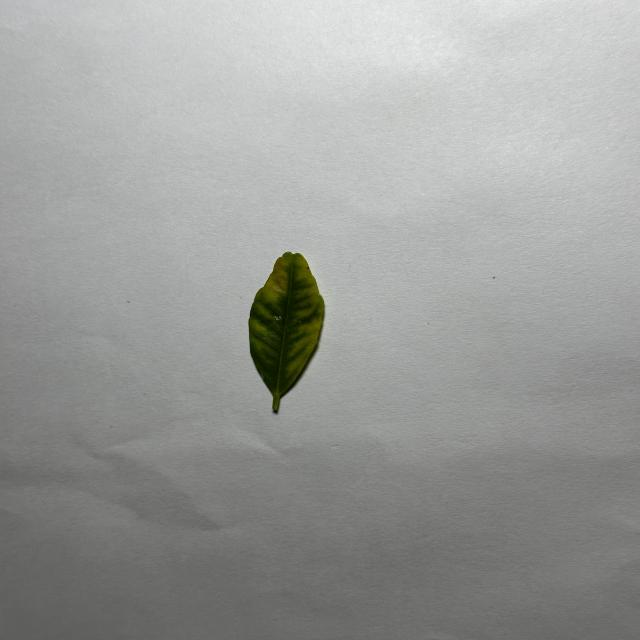greening: (248, 252, 324, 411)
